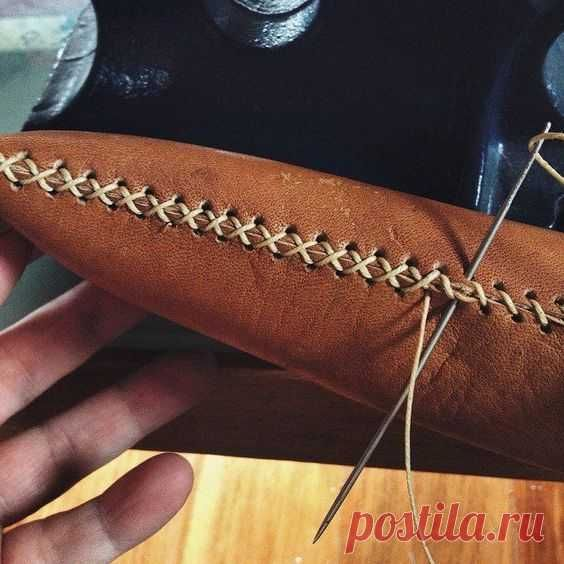cuero: (3, 128, 564, 475)
